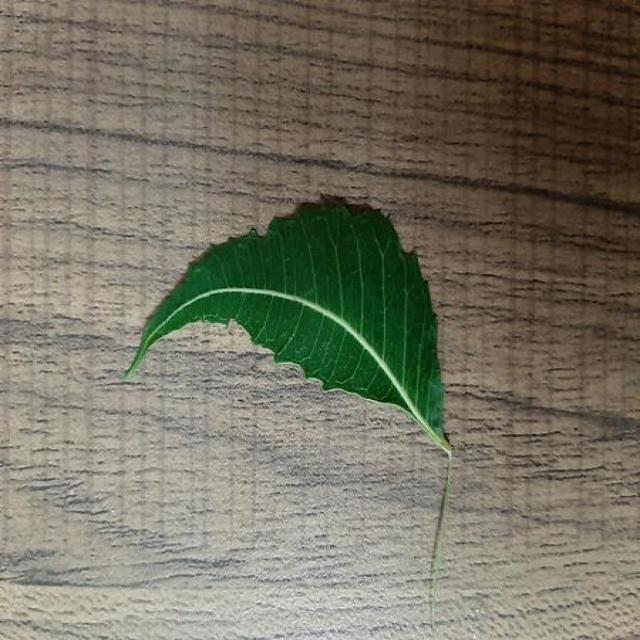neem: (125, 199, 452, 459)
